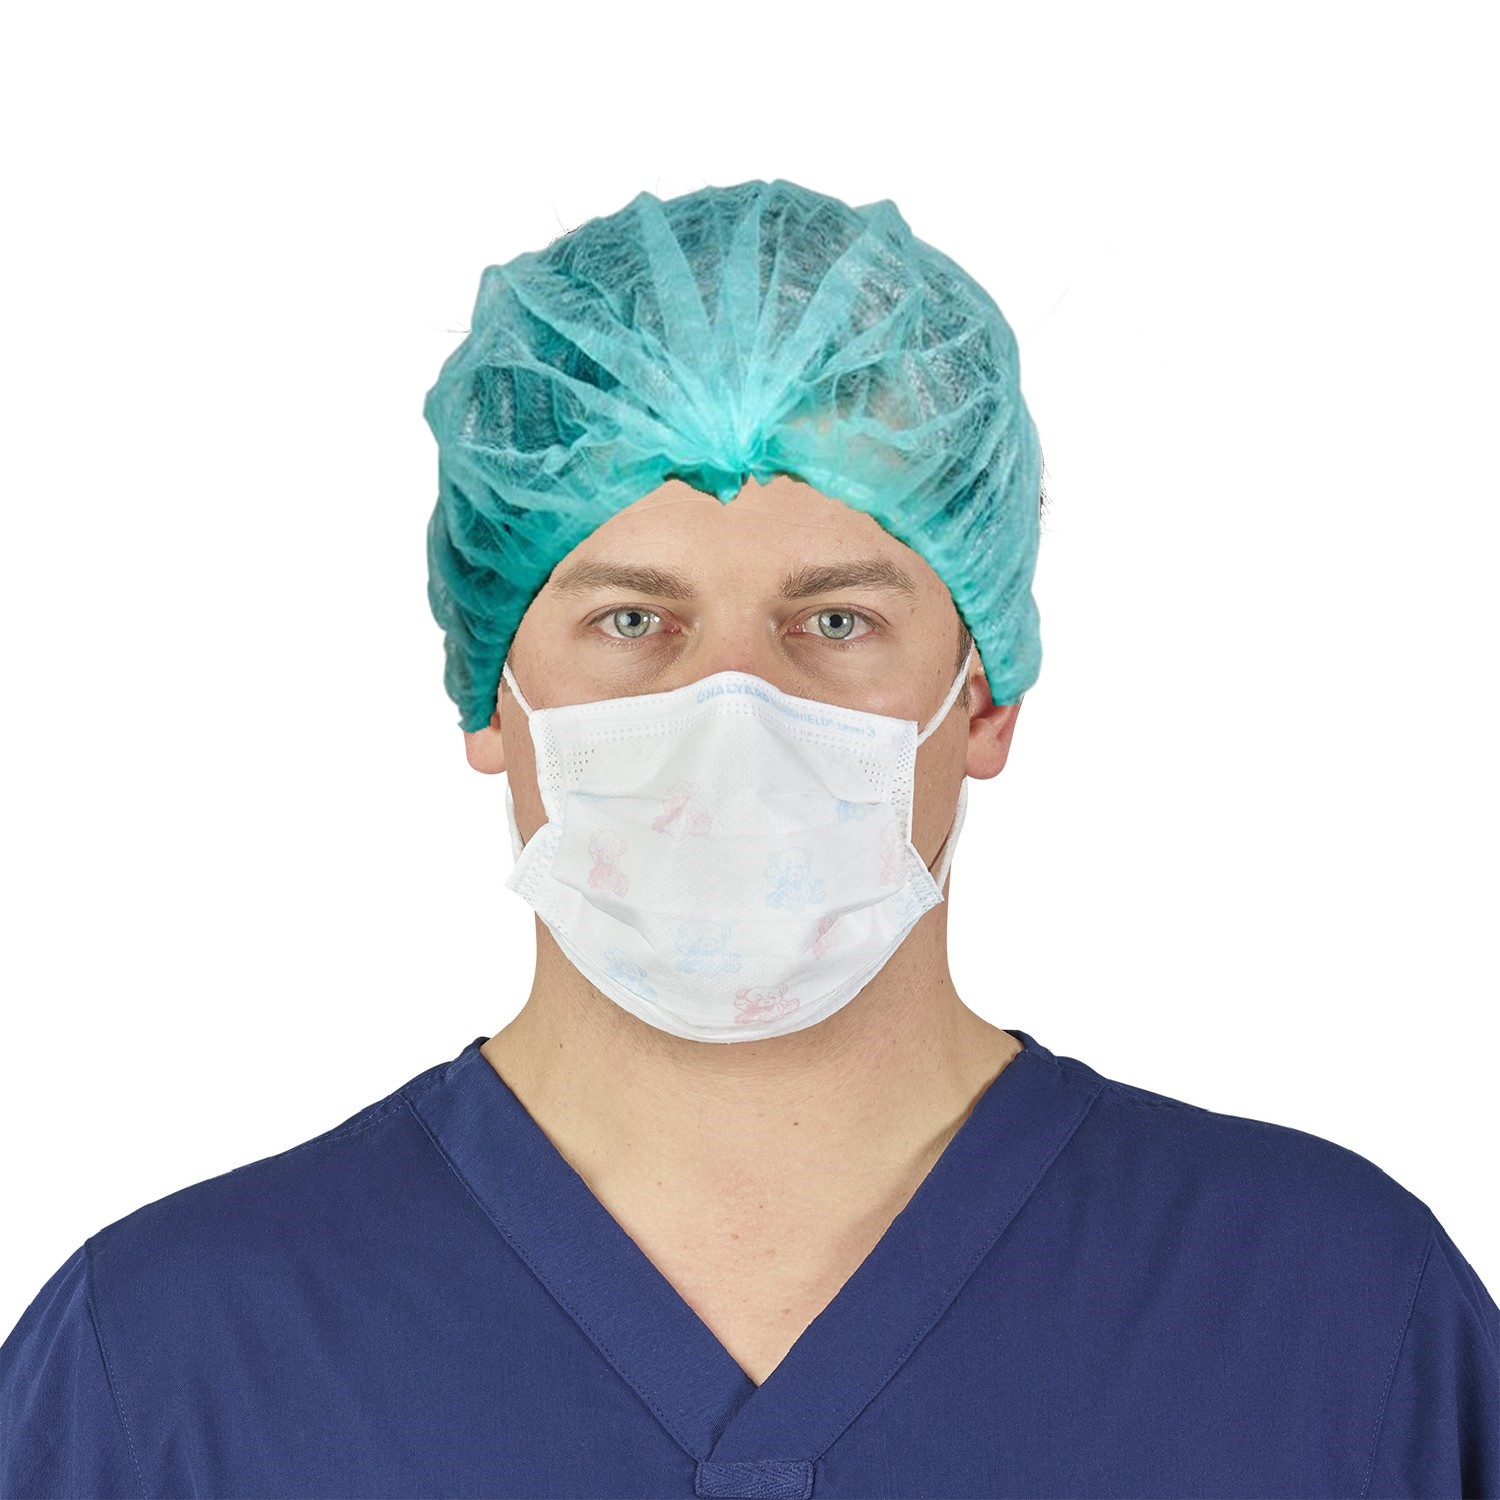with_mask_and_cap: (444, 193, 1026, 1055)
